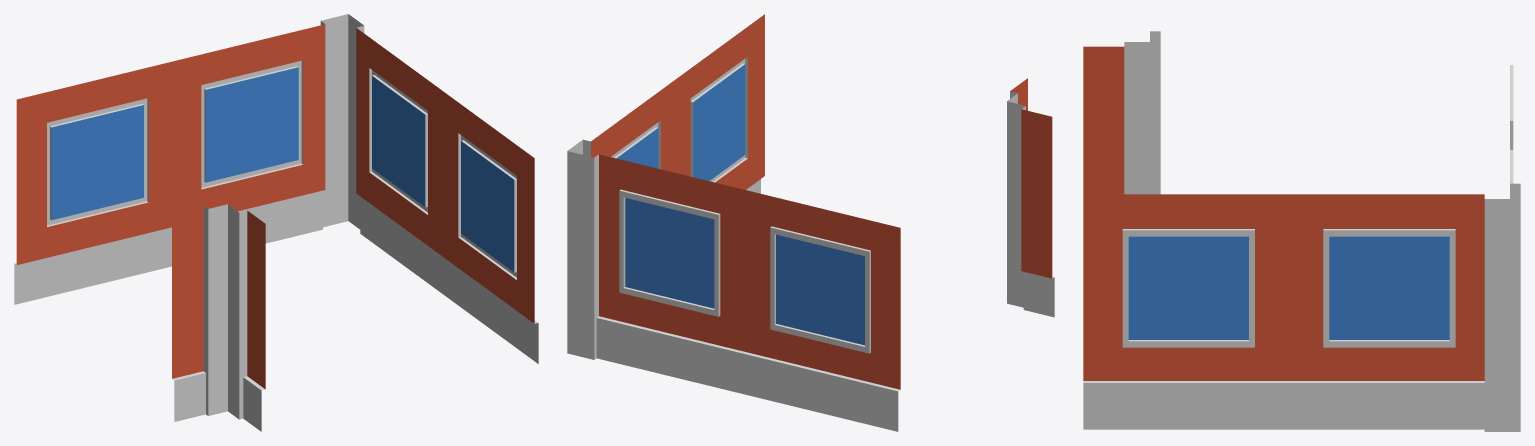
The picture shows the model from 3 angles, left to right: view 1: azimuth 30°, elevation 25°; view 2: azimuth 150°, elevation 25°; view 3: azimuth 270°, elevation 25°; orthographic projection. The views are drawn at different scales.
Parts seen in each view (by area): view 1: 03a_Base; view 2: 03a_Base; view 3: 03a_Base.
Boxes of the visible parts, bbox=[...] form: 03a_Base: bbox=[14, 14, 538, 431]; 03a_Base: bbox=[567, 14, 1054, 431]; 03a_Base: bbox=[1083, 31, 1520, 431].
Bounding box in the file's own units: 42.5 × 42.5 × 25.
